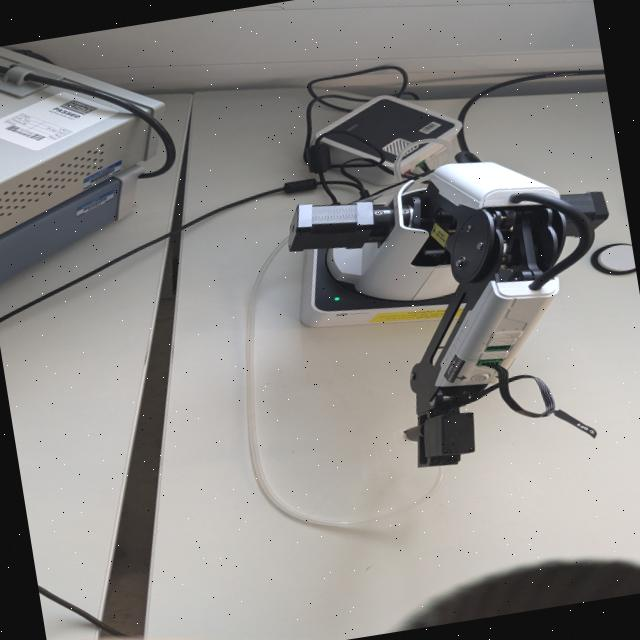Robot-end-effector-HF8z: (392, 402, 489, 477)
